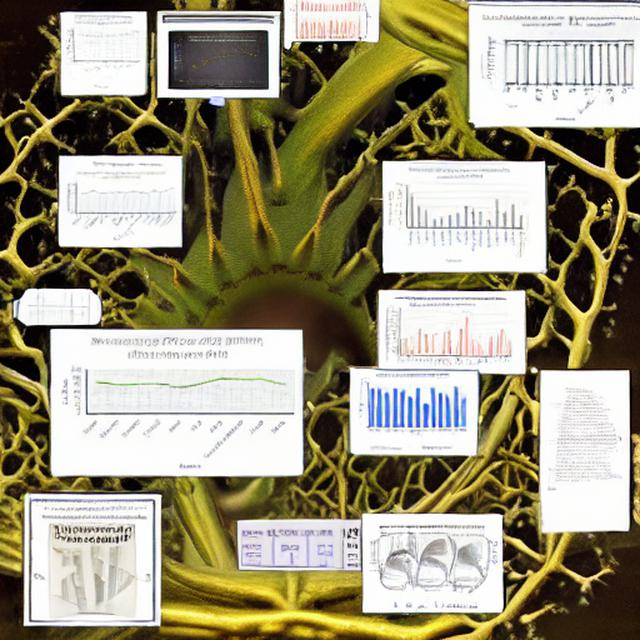Graph: (57, 331, 298, 472), (385, 165, 527, 266), (354, 371, 474, 441), (63, 169, 179, 238), (383, 302, 495, 368), (172, 33, 268, 90), (64, 21, 143, 68)
